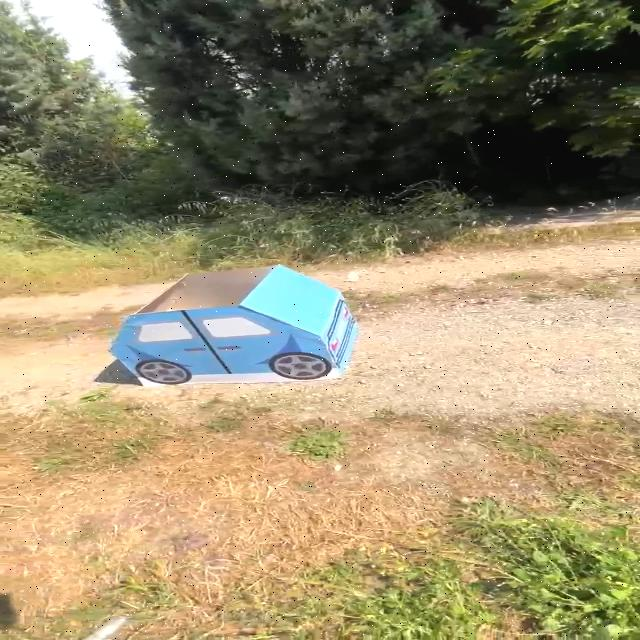blue_car: (90, 254, 382, 414)
